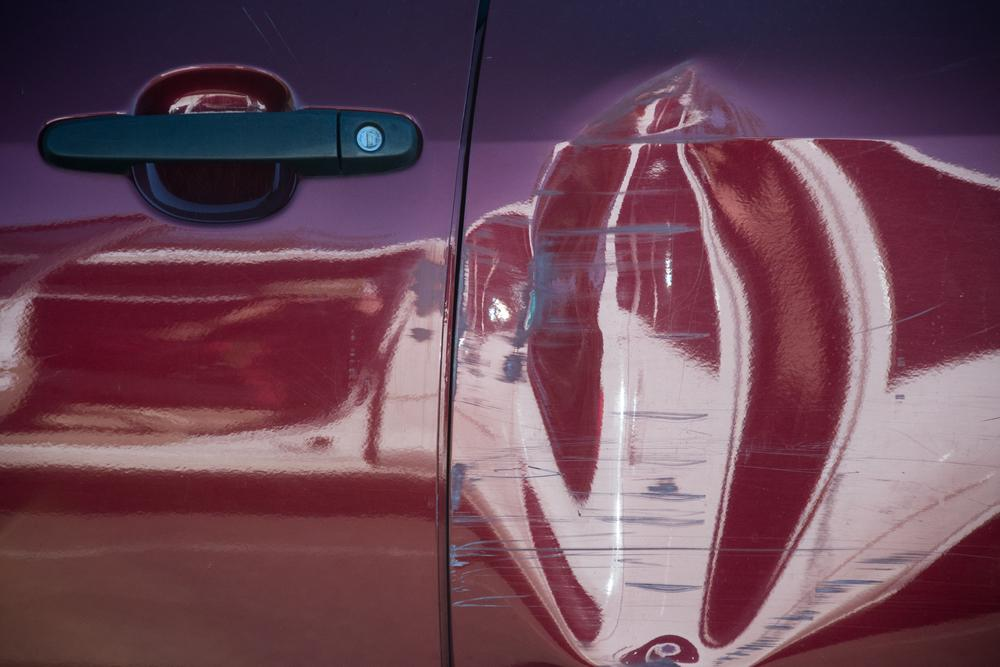dent: (451, 64, 868, 667)
scratch: (720, 541, 933, 667), (449, 482, 538, 615)
